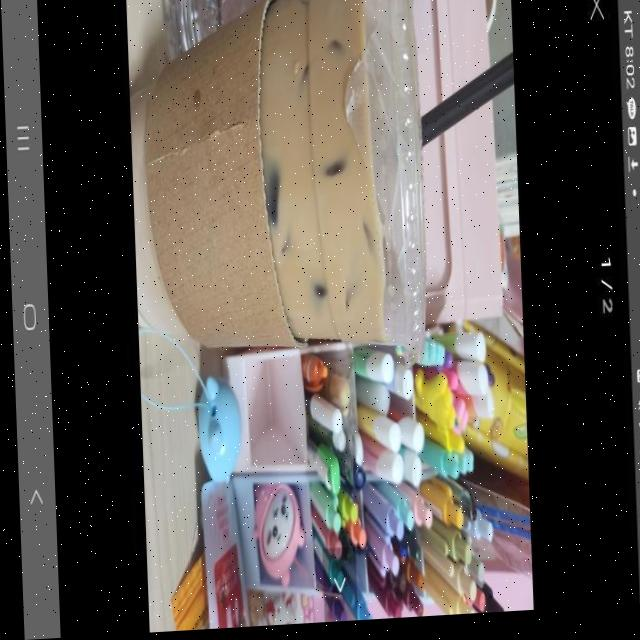cup: (124, 0, 445, 403)
